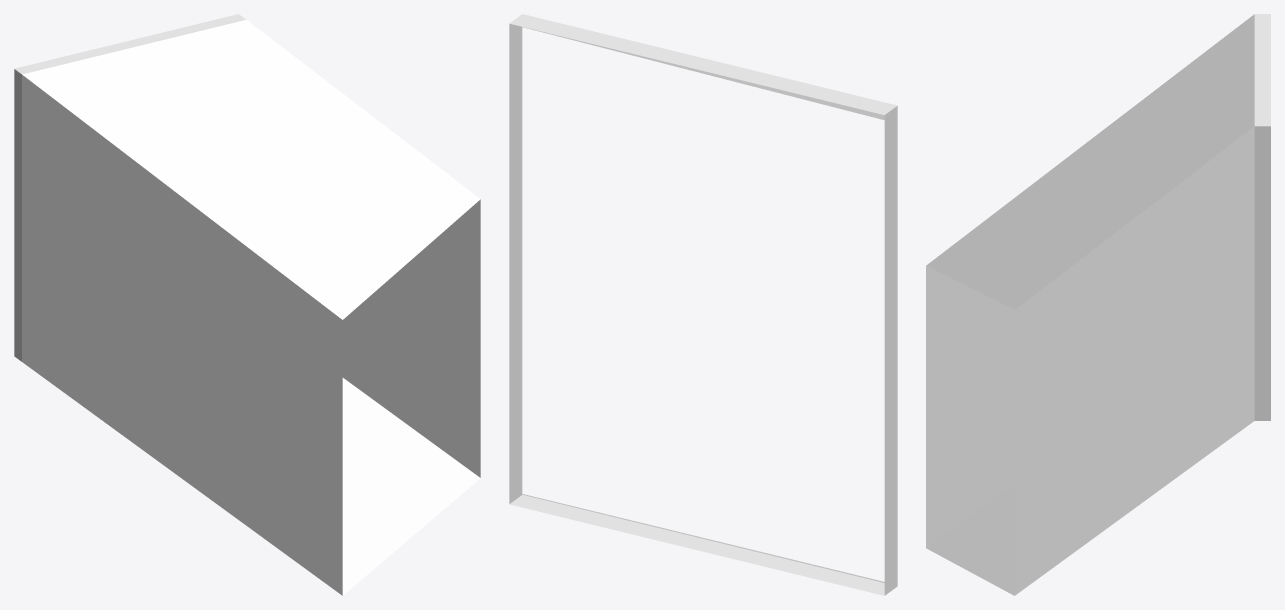
File: set_add_effect_r_01_01.fbx
The picture shows the model from 3 angles, left to right: view 1: azimuth 30°, elevation 25°; view 2: azimuth 150°, elevation 25°; view 3: azimuth 270°, elevation 25°; orthographic projection. The views are drawn at different scales.
Visible parts, largest first — view 1: set_add_effect_r_01_01; view 2: set_add_effect_r_01_01; view 3: set_add_effect_r_01_01.
Part boxes in pixels (x1,y1,x2,y2): set_add_effect_r_01_01: (14, 14, 480, 595); set_add_effect_r_01_01: (509, 14, 897, 595); set_add_effect_r_01_01: (926, 14, 1270, 595).
Size of the model in its own units: 132 by 164 by 113.
